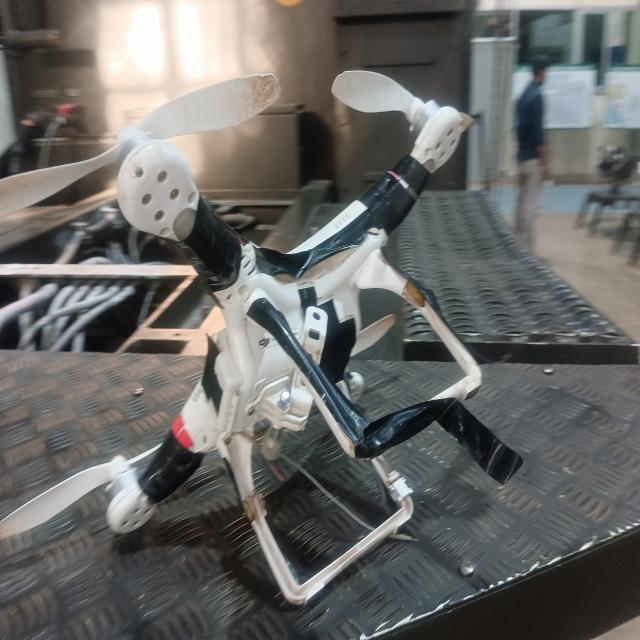drone: (0, 65, 539, 610)
